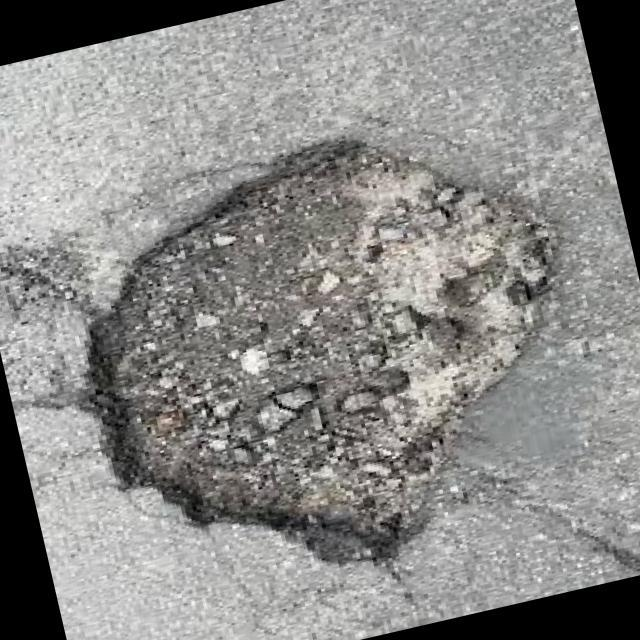pothole: (29, 93, 623, 620)
